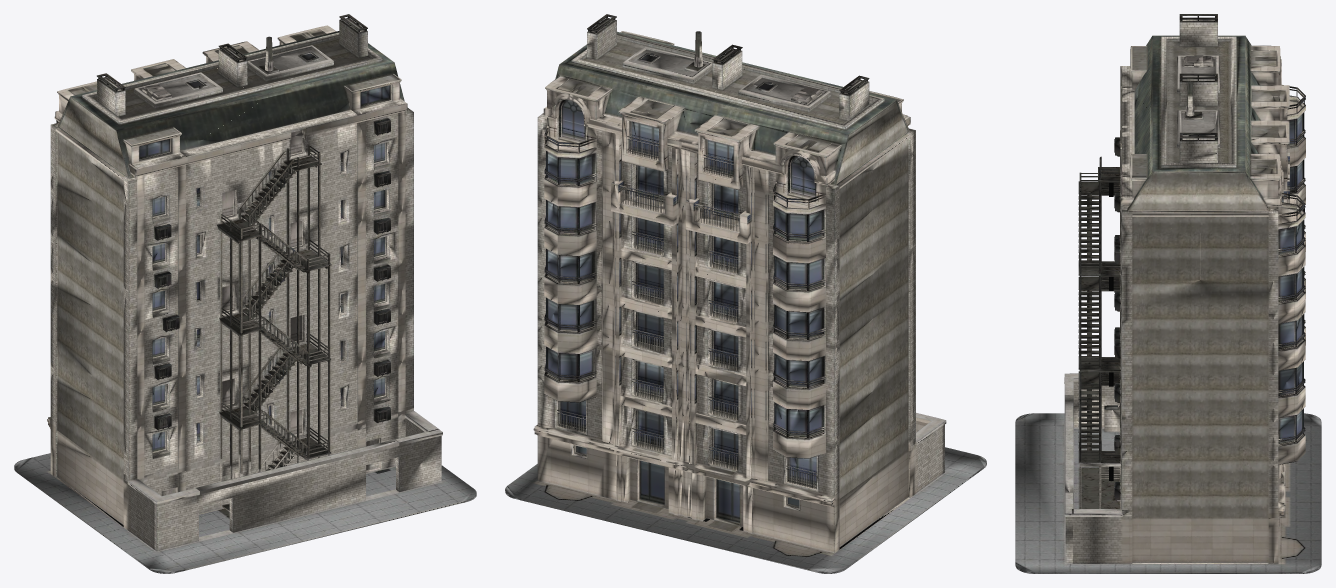
File: bld22_05.glb
3 views of the same model, side by side, from view 1: azimuth 30°, elevation 25°; view 2: azimuth 150°, elevation 25°; view 3: azimuth 270°, elevation 25° (orthographic). The views are drawn at different scales.
Parts seen in each view (by area): view 1: bld22_05; view 2: bld22_05; view 3: bld22_05.
Part boxes in pixels (x1=…): bld22_05: x1=14, y1=14, x2=476, y2=573; bld22_05: x1=505, y1=14, x2=986, y2=573; bld22_05: x1=1015, y1=14, x2=1321, y2=573.
Size of the model in its own units: 39.66 by 49.89 by 32.27.
Materials: 1 (1 with a texture image).
